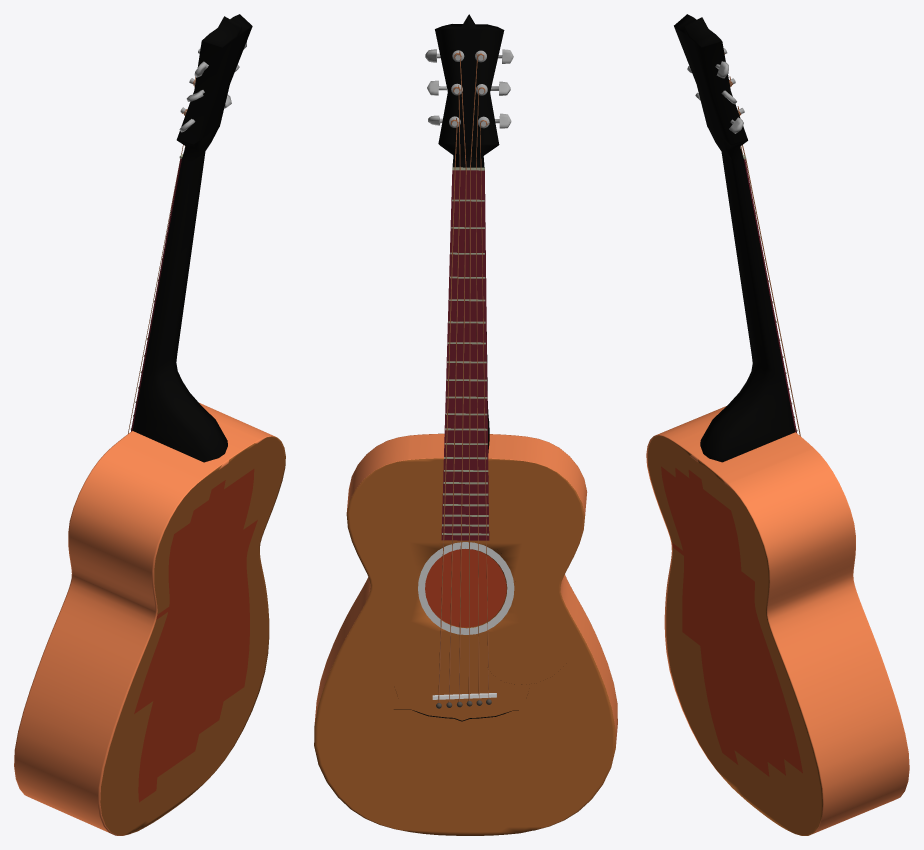
File: guitar.dae
3 renders of one model, left to right at view 1: azimuth 30°, elevation 25°; view 2: azimuth 150°, elevation 25°; view 3: azimuth 270°, elevation 25°, orthographic. The views are drawn at different scales.
Visible parts, largest first — view 1: Plane, Plane_003, Plane_002; view 2: Plane, Plane_002, Plane_003, Circle, Sphere, Cylinder_003, Cylinder_004, Cylinder_001, Cylinder_002, Cylinder_005, Cylinder_006, Cylinder; view 3: Plane, Plane_003, Plane_002.
Boxes of the visible parts, box(x1,y1,x2,y2) form: Plane: box(14, 403, 285, 835); Plane_003: box(132, 14, 252, 462); Plane_002: box(131, 153, 183, 431); Plane: box(314, 433, 617, 835); Plane_002: box(441, 167, 489, 540); Plane_003: box(435, 14, 504, 452); Circle: box(418, 542, 514, 634); Sphere: box(425, 49, 513, 128); Cylinder_003: box(454, 51, 466, 701); Cylinder_004: box(468, 53, 484, 700); Cylinder_001: box(438, 118, 458, 702); Cylinder_002: box(448, 85, 460, 702); Cylinder_005: box(476, 86, 485, 699); Cylinder_006: box(480, 120, 489, 698); Cylinder: box(449, 50, 489, 128); Plane: box(646, 406, 909, 835); Plane_003: box(674, 14, 795, 462); Plane_002: box(742, 154, 796, 432).
Bounding box in the file's own units: 7.56 × 6.07 × 20.57.
